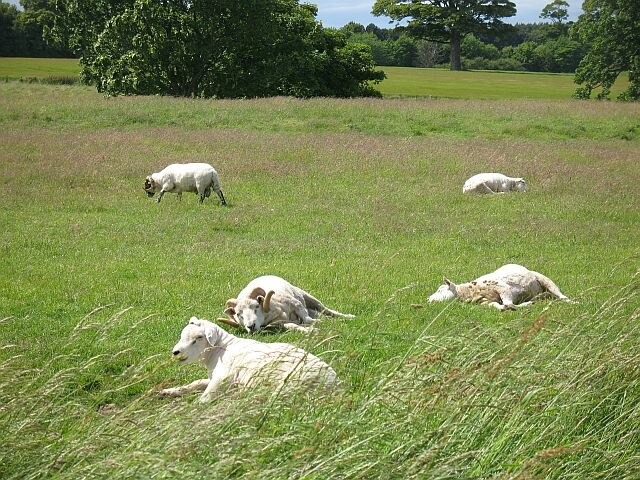resting: (163, 318, 340, 399), (226, 272, 361, 336), (424, 260, 578, 312), (461, 173, 530, 195)
standing: (142, 160, 228, 206)
